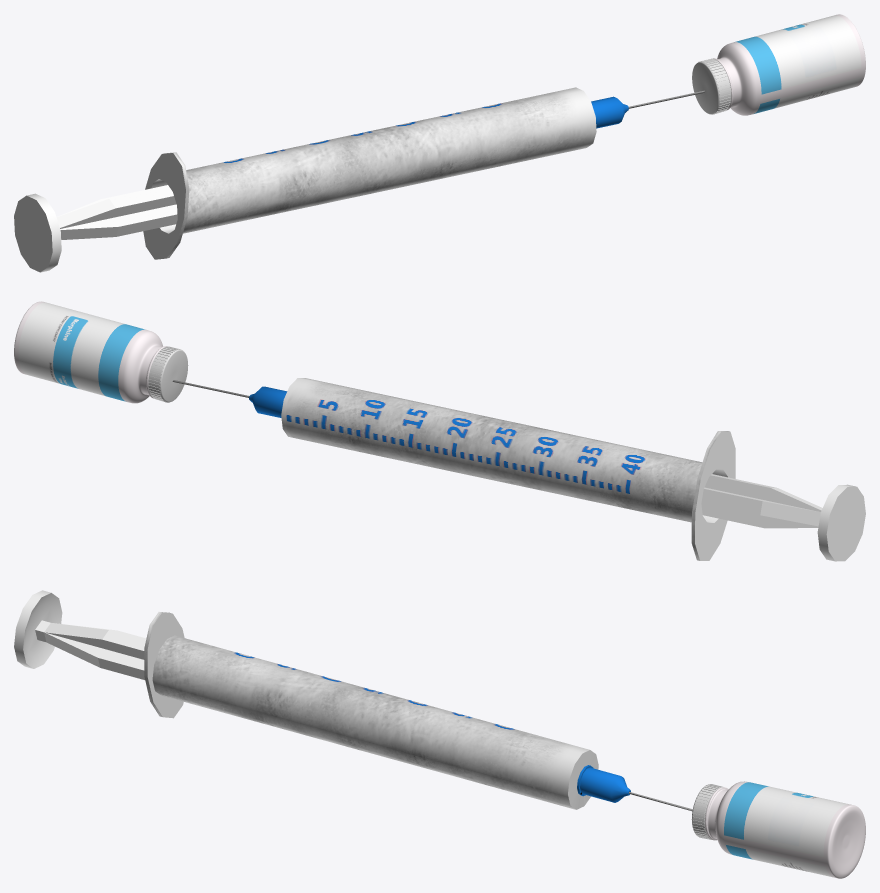
The model's file is 2.jarum suntik.fbx.
3 renders of one model, top to bottom at view 1: azimuth 30°, elevation 25°; view 2: azimuth 150°, elevation 25°; view 3: azimuth 330°, elevation 25°, orthographic.
Parts seen in each view (by area): view 1: Syringe; view 2: Syringe; view 3: Syringe.
Boxes of the visible parts, <box> form: Syringe: <box>14,14,865,272</box>; Syringe: <box>14,301,865,561</box>; Syringe: <box>14,590,865,878</box>.
Bounding box in the file's own units: 639 × 87.7 × 57.62.
